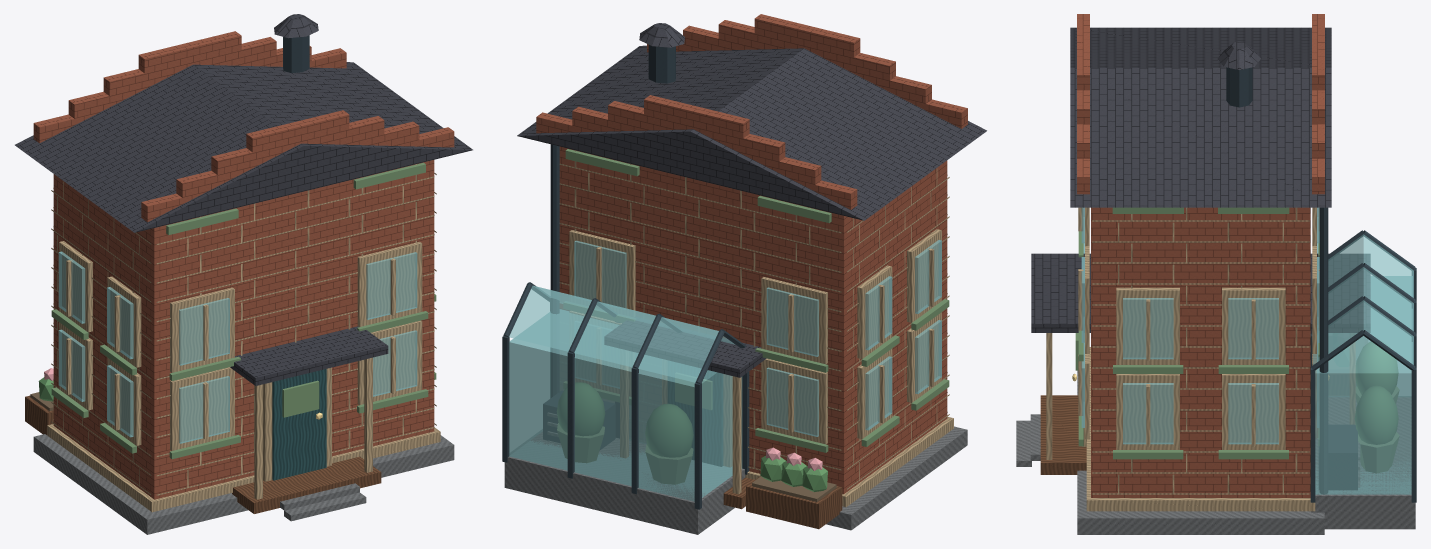
Rendered from house_townhouse_lv5_greenhouse.glb.
The picture shows the model from 3 angles, left to right: view 1: azimuth 30°, elevation 25°; view 2: azimuth 150°, elevation 25°; view 3: azimuth 270°, elevation 25°; orthographic projection. The views are drawn at different scales.
Parts seen in each view (by area): view 1: walls, gable_roof, foundation, front_porch_canopy, front_door, front_window_frame.003, front_window_frame.002, front_window_frame, floor_trim, front_deck, front_window_frame.001, front_window_glass.002 (+34 smaller); view 2: walls, gable_roof, greenhouse_glazing, greenhouse_roof, greenhouse_plinth, back_window_frame.002, back_window_frame, back_porch_canopy, back_window_frame.003, foundation, back_window_glass.002, back_window_glass (+43 smaller); view 3: gable_roof, walls, greenhouse_glazing, greenhouse_roof, foundation, greenhouse_plinth, right_window_frame.003, right_window_frame.002, right_window_frame, right_window_frame.001, front_porch_canopy, floor_trim (+35 smaller).
Boxes of the visible parts, left/top/right/bottom form: walls: left=53, top=160, right=434, bottom=499; gable_roof: left=15, top=62, right=472, bottom=232; foundation: left=33, top=434, right=454, bottom=534; front_porch_canopy: left=230, top=326, right=388, bottom=385; front_door: left=272, top=369, right=326, bottom=480; front_window_frame.003: left=357, top=242, right=422, bottom=326; front_window_frame.002: left=170, top=287, right=234, bottom=372; front_window_frame: left=170, top=367, right=234, bottom=450; floor_trim: left=47, top=424, right=440, bottom=512; front_deck: left=232, top=456, right=381, bottom=513; front_window_frame.001: left=357, top=320, right=422, bottom=405; front_window_glass.002: left=179, top=298, right=229, bottom=365; walls: left=559, top=146, right=947, bottom=494; gable_roof: left=517, top=45, right=986, bottom=220; greenhouse_glazing: left=509, top=309, right=742, bottom=501; greenhouse_roof: left=509, top=285, right=734, bottom=382; greenhouse_plinth: left=504, top=431, right=745, bottom=534; back_window_frame.002: left=761, top=277, right=827, bottom=364; back_window_frame: left=761, top=358, right=827, bottom=444; back_porch_canopy: left=604, top=320, right=766, bottom=377; back_window_frame.003: left=569, top=230, right=635, bottom=310; foundation: left=826, top=426, right=967, bottom=530; back_window_glass.002: left=766, top=287, right=818, bottom=356; back_window_glass: left=766, top=367, right=818, bottom=436; gable_roof: left=1070, top=27, right=1331, bottom=207; walls: left=1091, top=207, right=1310, bottom=497; greenhouse_glazing: left=1315, top=276, right=1412, bottom=494; greenhouse_roof: left=1313, top=234, right=1413, bottom=364; foundation: left=1077, top=370, right=1324, bottom=534; greenhouse_plinth: left=1311, top=397, right=1415, bottom=529; right_window_frame.003: left=1222, top=287, right=1285, bottom=364; right_window_frame.002: left=1116, top=287, right=1179, bottom=364; right_window_frame: left=1116, top=374, right=1179, bottom=449; right_window_frame.001: left=1222, top=374, right=1285, bottom=449; front_porch_canopy: left=1031, top=253, right=1090, bottom=332; floor_trim: left=1086, top=347, right=1315, bottom=511.
Bounding box in the file's own units: 6.6 × 7.6 × 6.19.
Materials: 13 (7 with a texture image).
